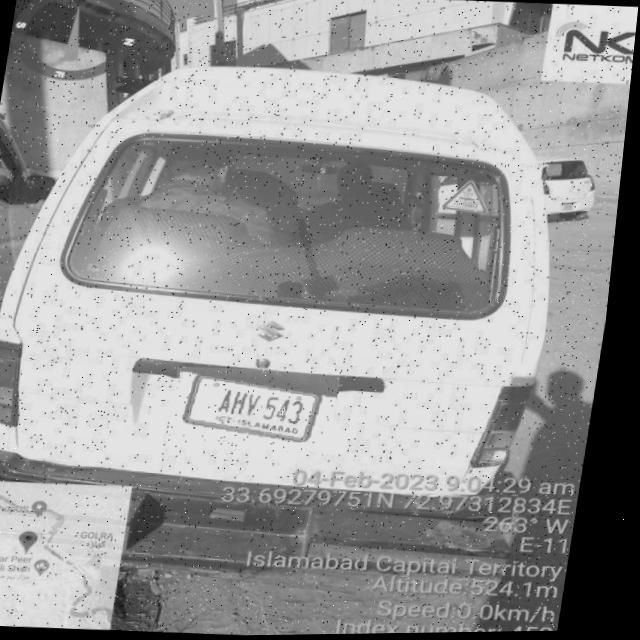LicensePlate: (175, 365, 350, 456)
